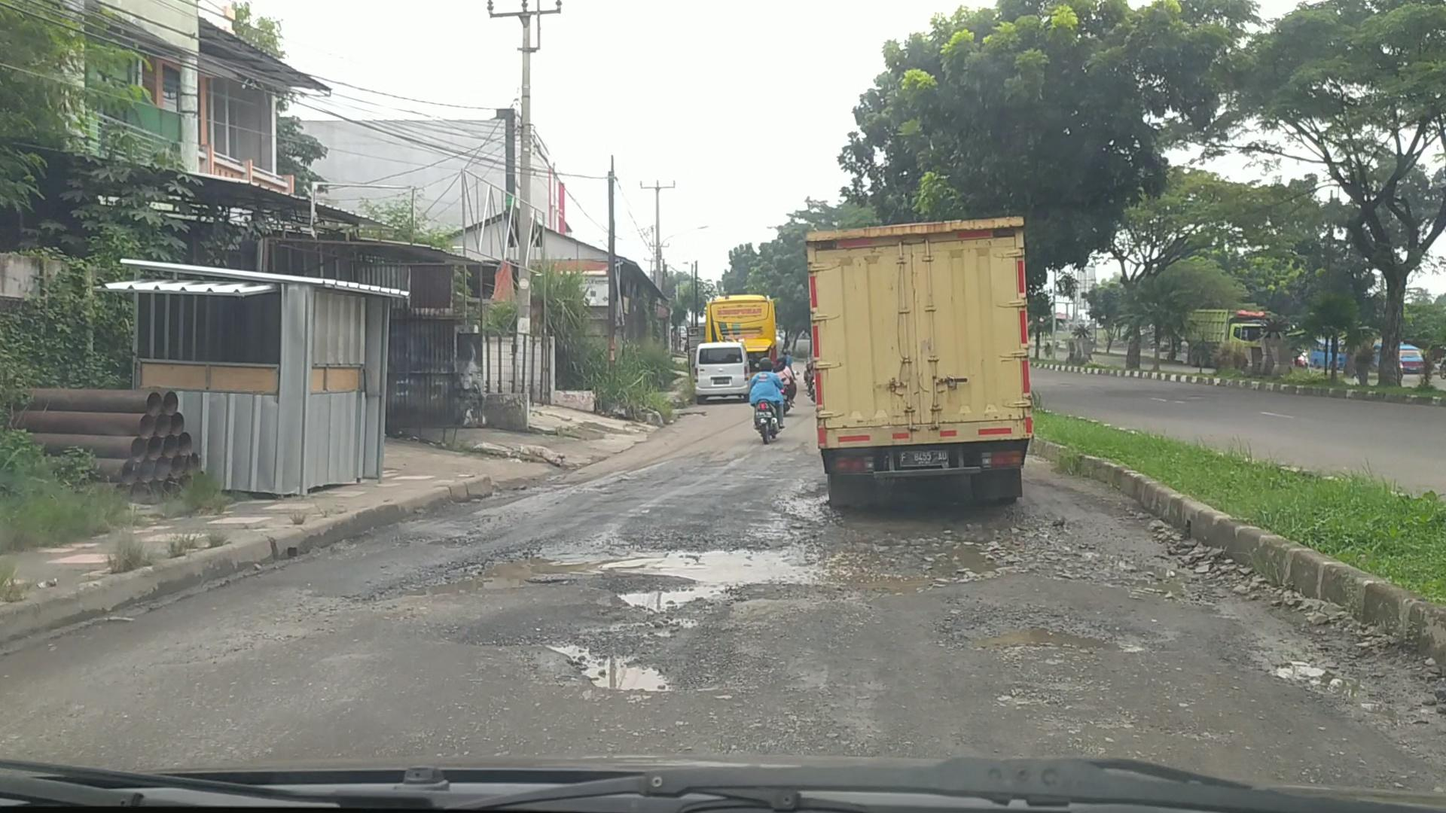pothole: (665, 510, 1036, 594), (1232, 610, 1415, 739), (361, 518, 662, 592), (1053, 514, 1264, 619), (473, 608, 739, 686), (968, 610, 1147, 650), (621, 584, 724, 610)
